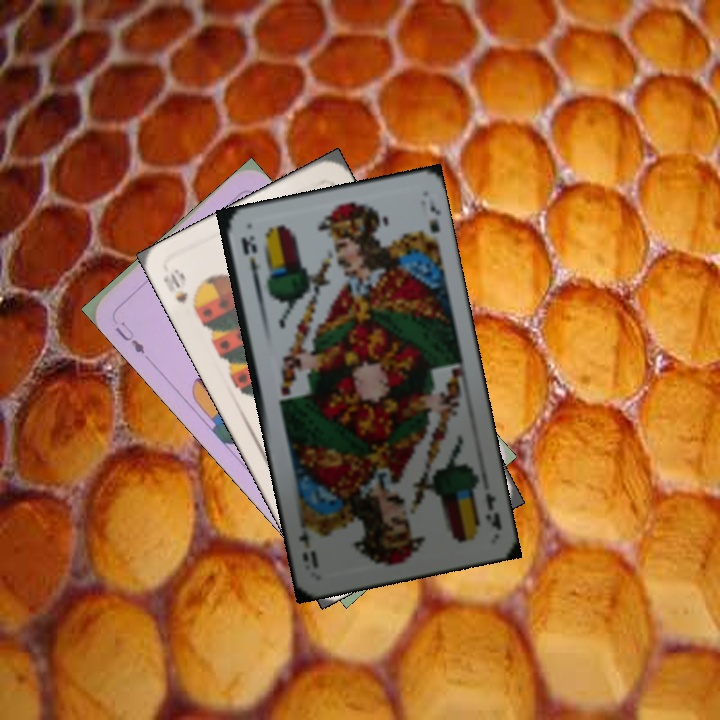EK: (237, 232, 263, 288), (481, 488, 504, 533)
EU: (108, 312, 148, 357)
S10: (159, 264, 201, 317)
